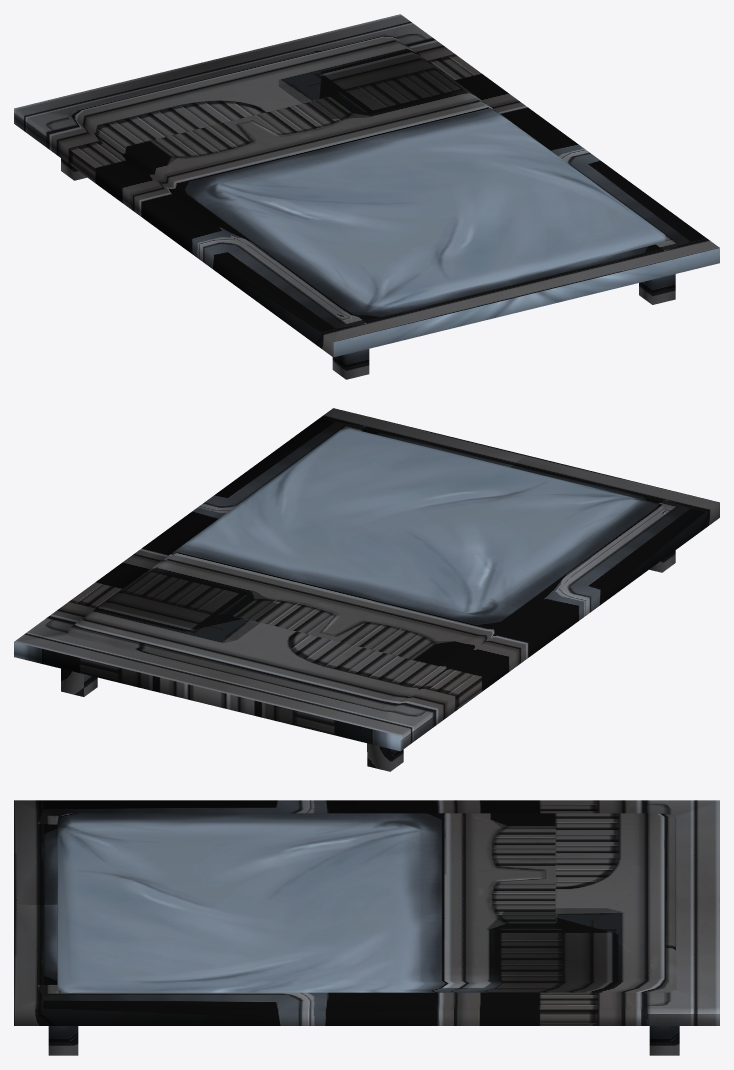
Rendered from bed3.glb.
The picture shows the model from 3 angles, top to bottom: view 1: azimuth 30°, elevation 25°; view 2: azimuth 150°, elevation 25°; view 3: azimuth 270°, elevation 25°; orthographic projection. The views are drawn at different scales.
Parts seen in each view (by area): view 1: Box04; view 2: Box04; view 3: Box04.
Part boxes in pixels (bbox=[...]): Box04: bbox=[14, 14, 719, 379]; Box04: bbox=[14, 408, 719, 771]; Box04: bbox=[14, 800, 719, 1055].
Bounding box in the file's own units: 105 × 16.32 × 150.
1 material, 1 textured.
